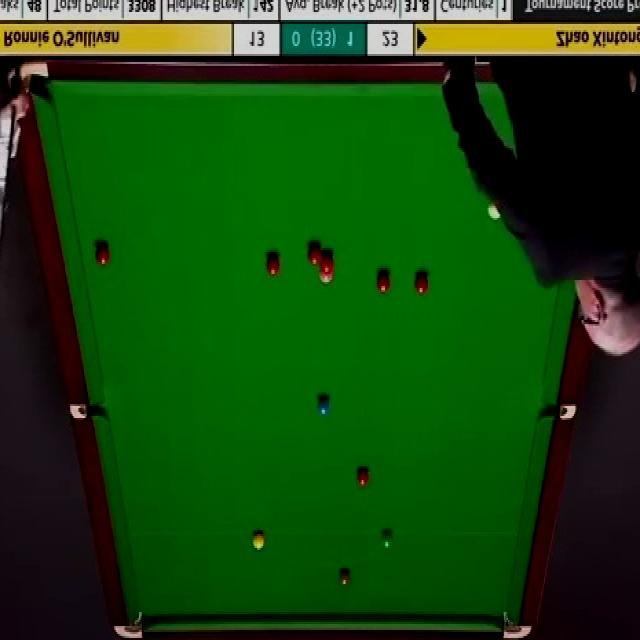blue-ball: (315, 396, 330, 418)
brown-ball: (338, 568, 351, 588)
green-ball: (380, 530, 393, 551)
pink-ball: (318, 270, 334, 284)
red-ball: (376, 268, 391, 296), (95, 242, 111, 268), (318, 252, 335, 273), (356, 466, 372, 488), (265, 254, 280, 276), (414, 272, 428, 295), (308, 244, 322, 264)
white-ball: (486, 199, 503, 224)
yellow-ball: (252, 531, 265, 552)
